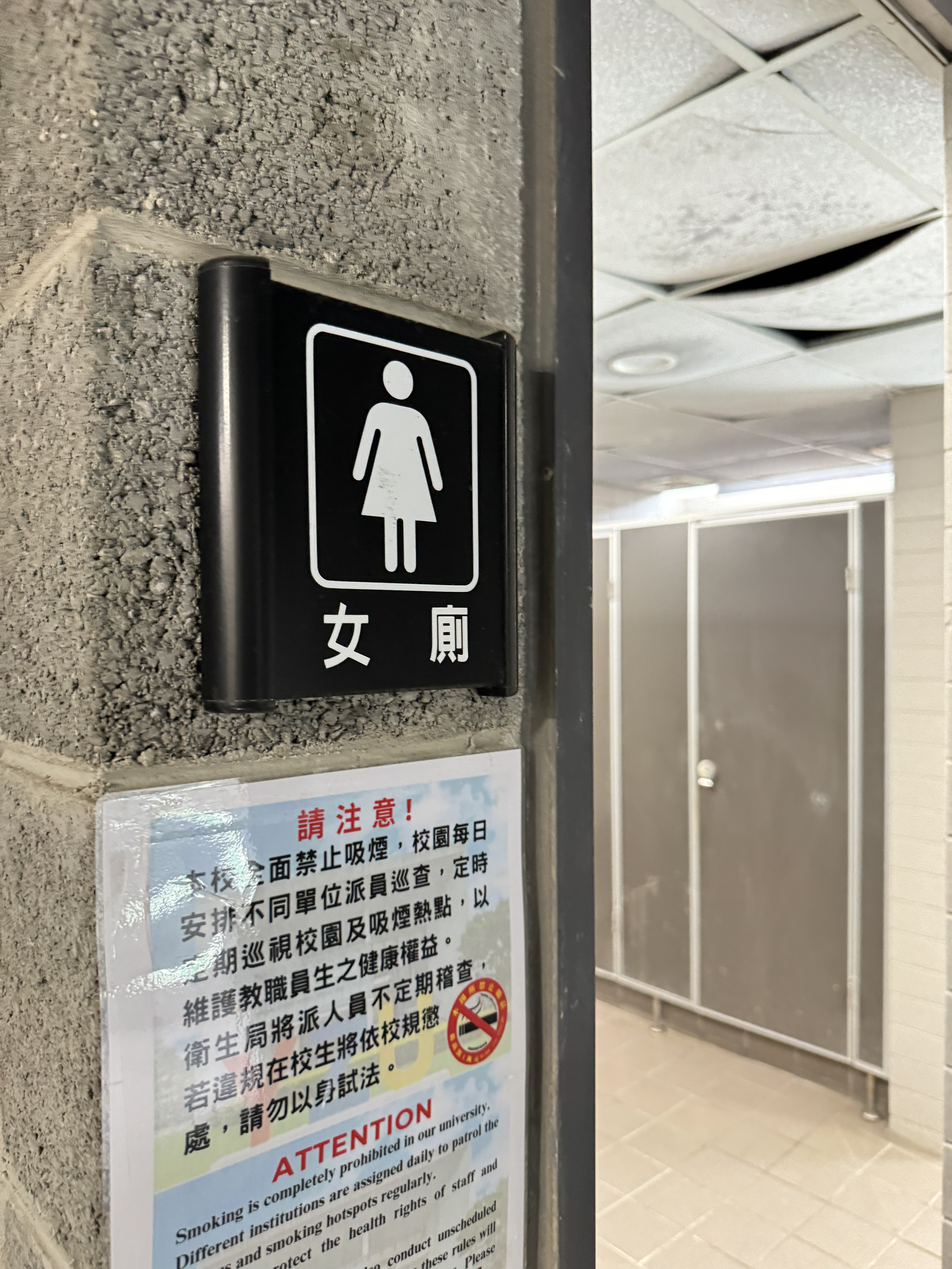toilet_sign: (161, 237, 536, 720), (186, 248, 529, 717)
